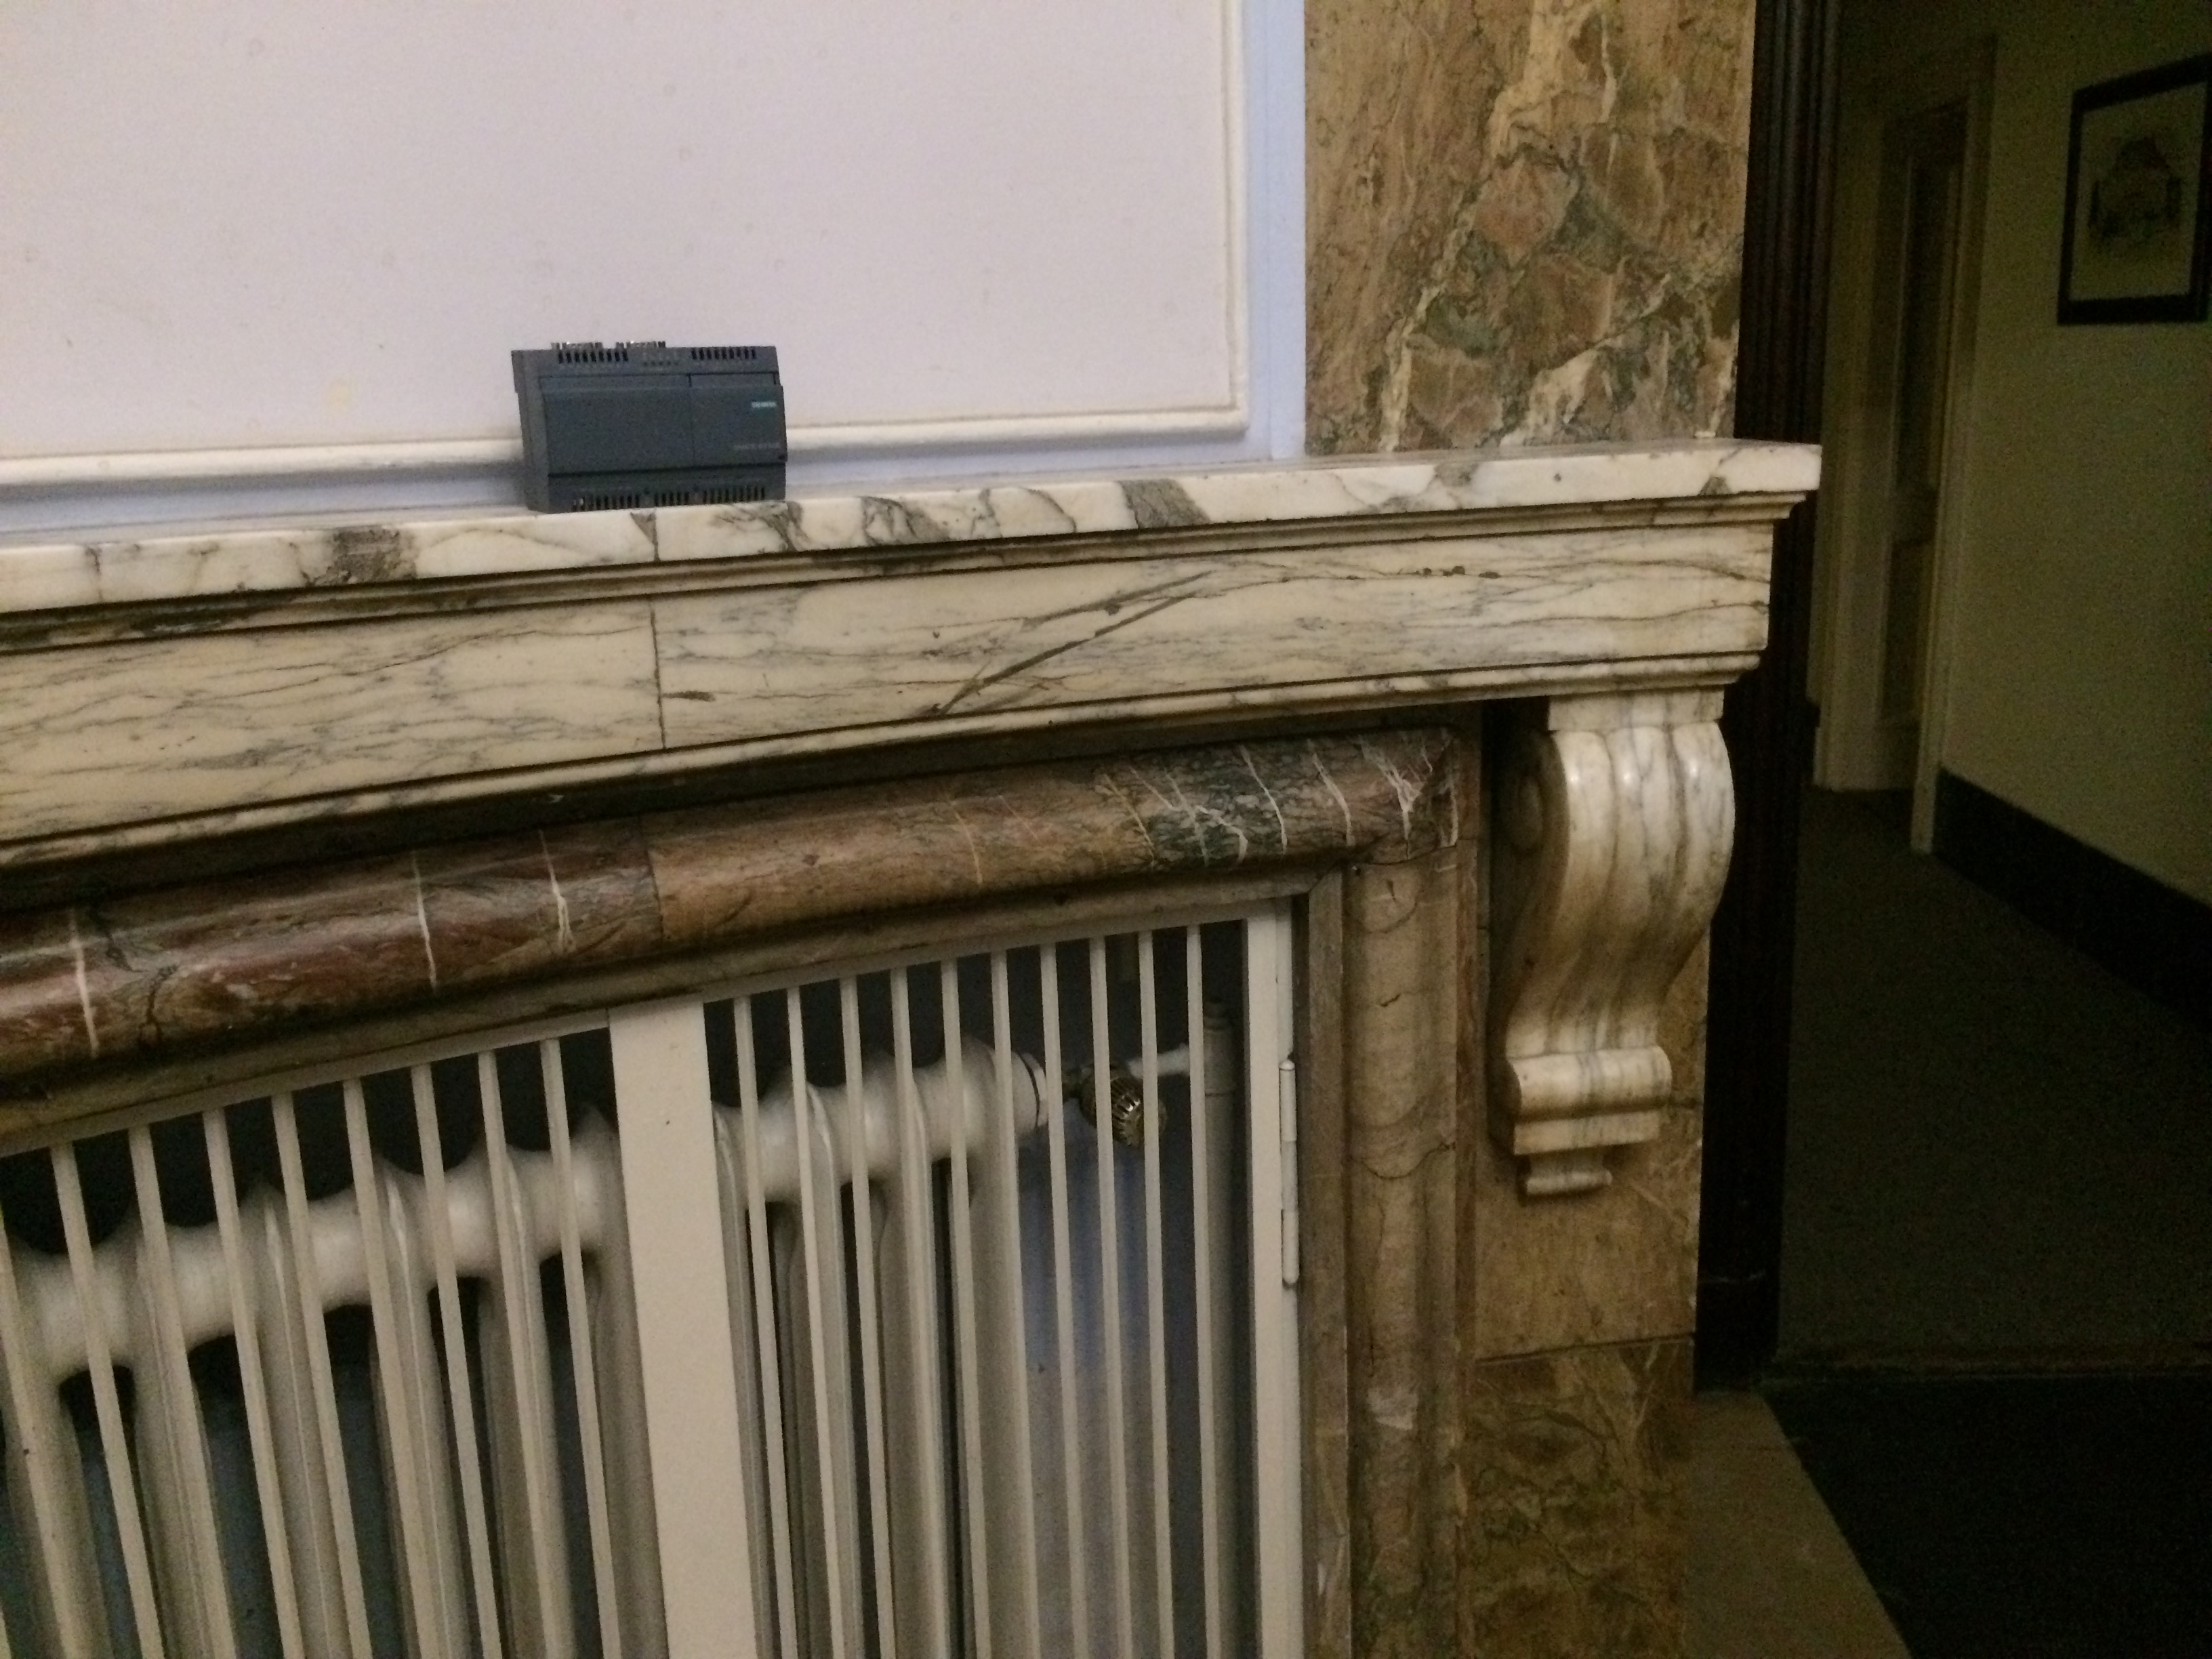iot2000: (509, 336, 792, 518)
